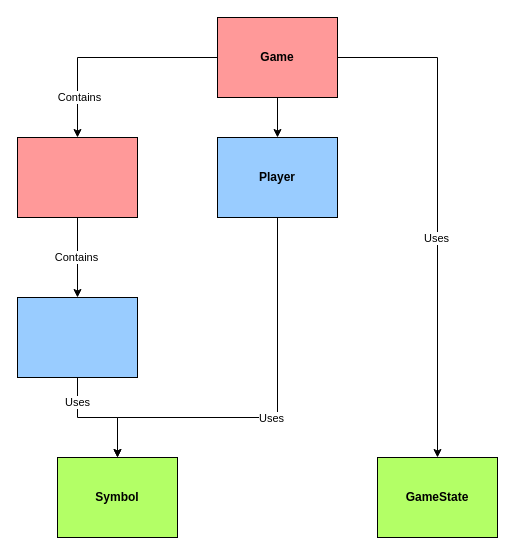
Some shapes in this 515 by 555 pixel diagram are drawn without their labels. Here are the shapes that lost their labels. From the top down, the box of each, then its label:
(16, 136, 138, 218): Board
(16, 296, 138, 378): Cell
